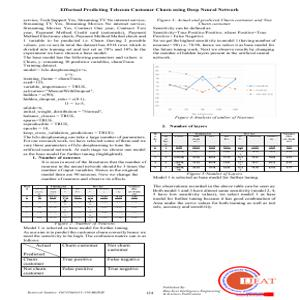diagram: (150, 60, 287, 122)
image: (215, 265, 285, 298)
table: (150, 131, 300, 173), (20, 185, 145, 224), (21, 241, 148, 279)
text: (20, 15, 145, 181), (151, 18, 287, 58), (55, 5, 241, 15)
